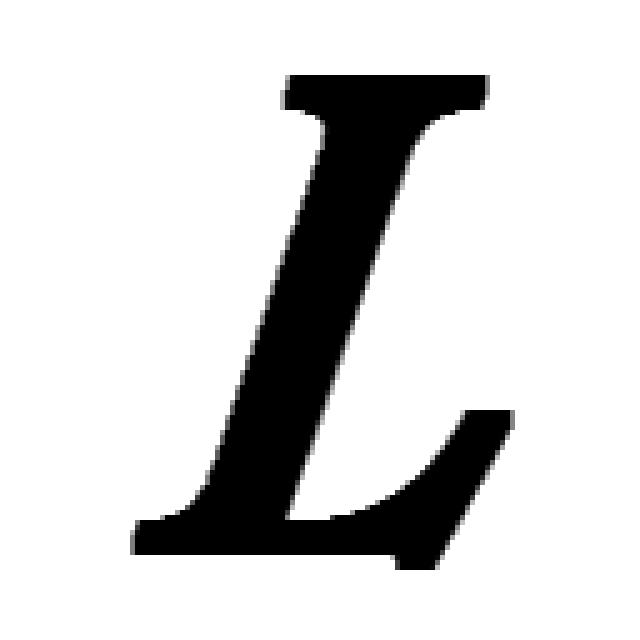L: (128, 57, 518, 572)
